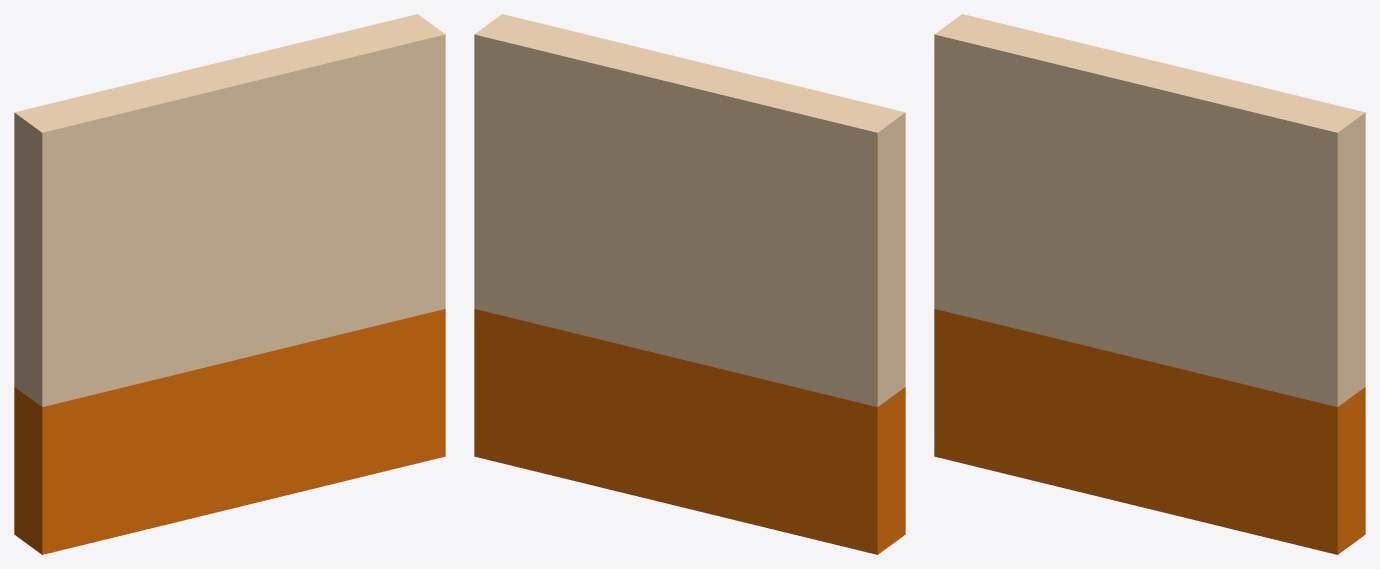
Rendered from 4_tuongtron.fbx.
The picture shows the model from 3 angles, left to right: view 1: azimuth 30°, elevation 25°; view 2: azimuth 150°, elevation 25°; view 3: azimuth 330°, elevation 25°; orthographic projection.
Visible parts, largest first — view 1: tuongtron; view 2: tuongtron; view 3: tuongtron.
Boxes of the visible parts, x1,y1,x2,y2 form: tuongtron: [14, 14, 445, 554]; tuongtron: [474, 14, 905, 554]; tuongtron: [934, 14, 1365, 554].
Size of the model in its own units: 200 by 200 by 24.
